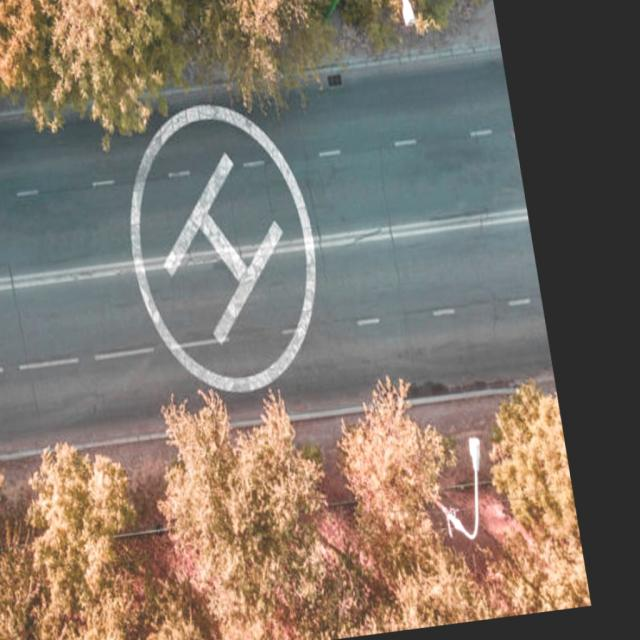helipad: (123, 99, 319, 398)
